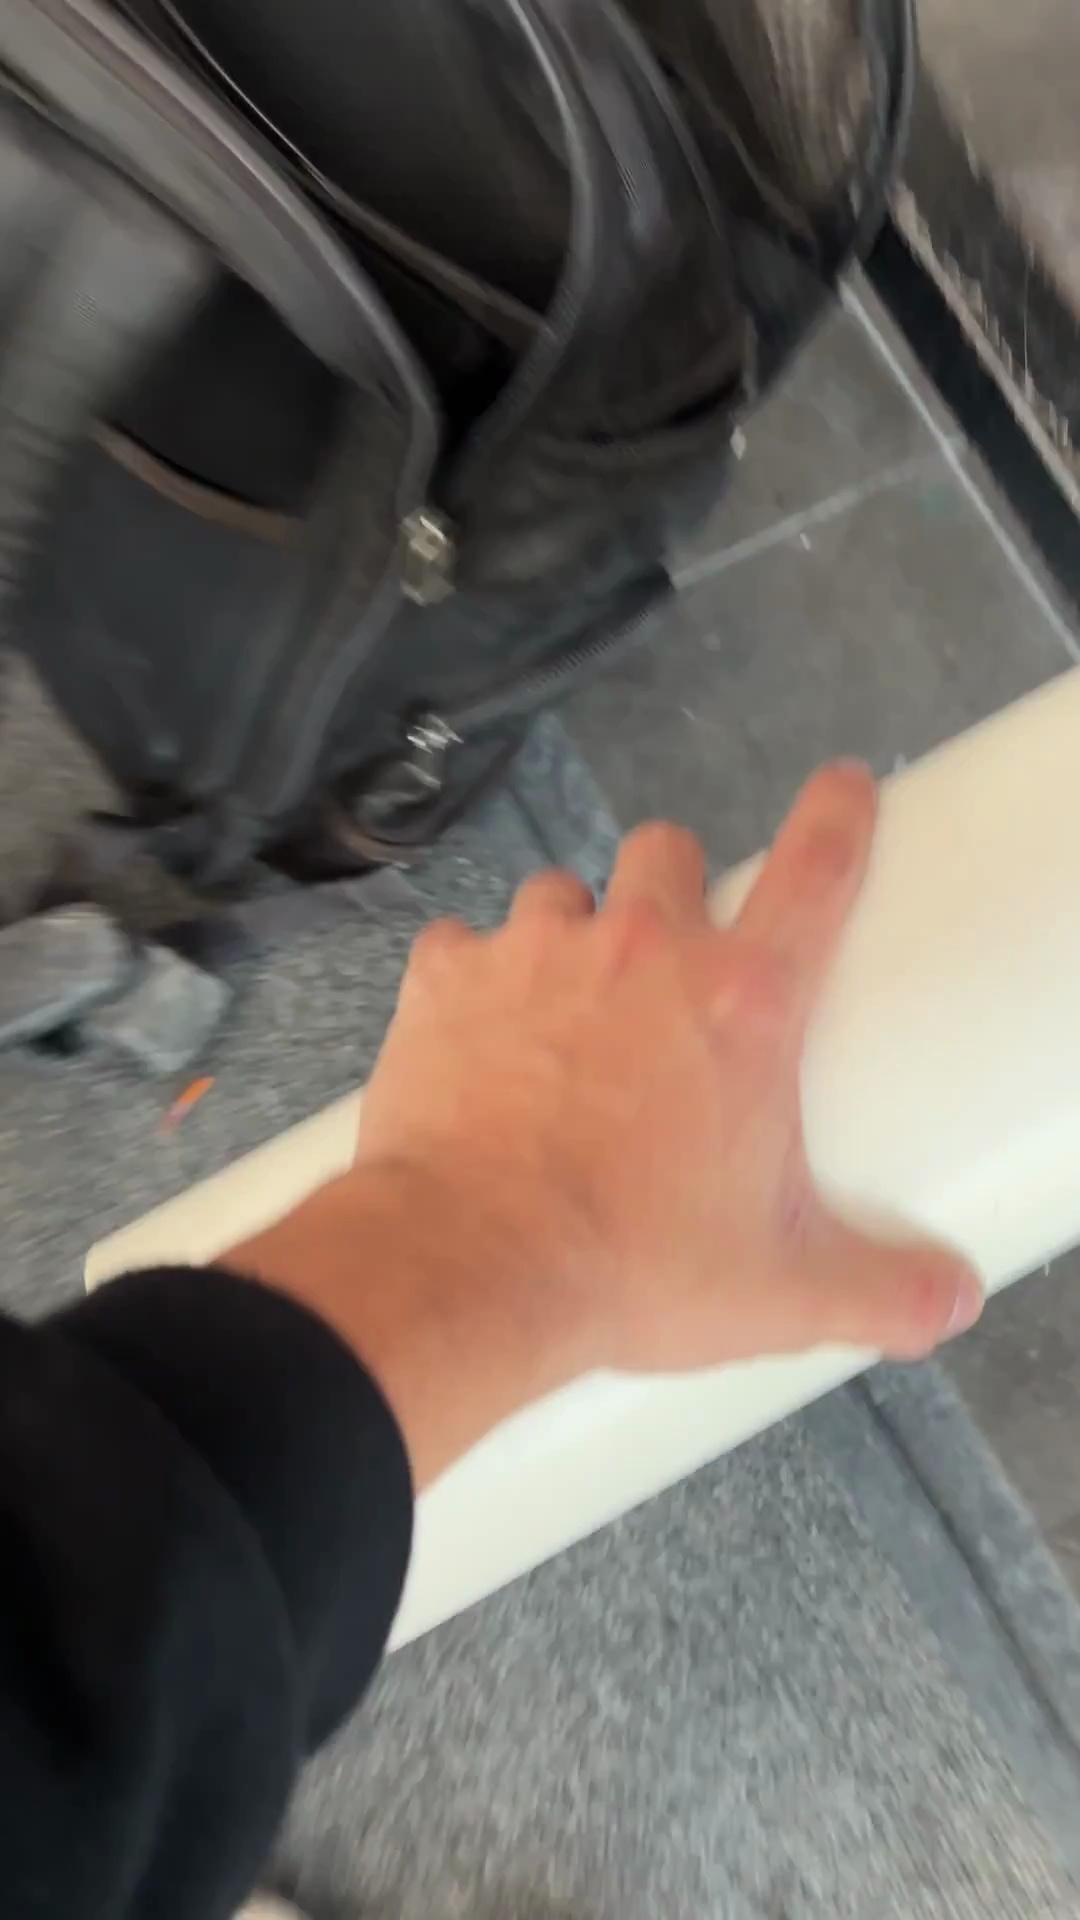CORAL: (80, 661, 1076, 1654)
